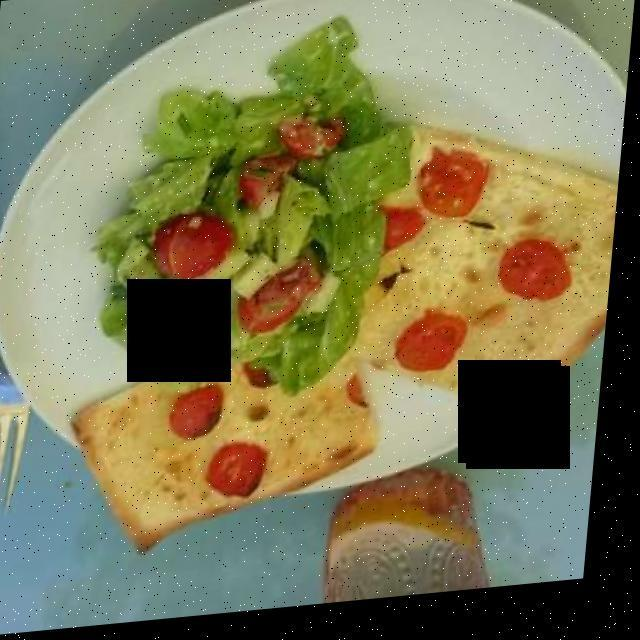pizza: (89, 133, 605, 544)
salad: (113, 48, 422, 395), (143, 289, 243, 371)
tomato: (163, 119, 574, 500)
